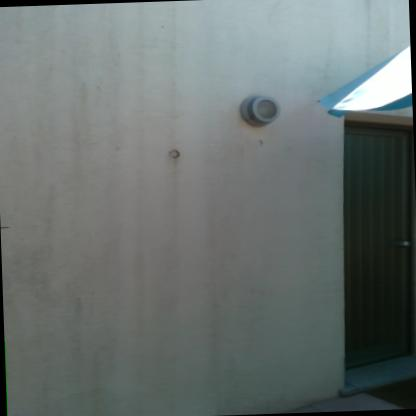closed: (325, 104, 416, 393)
